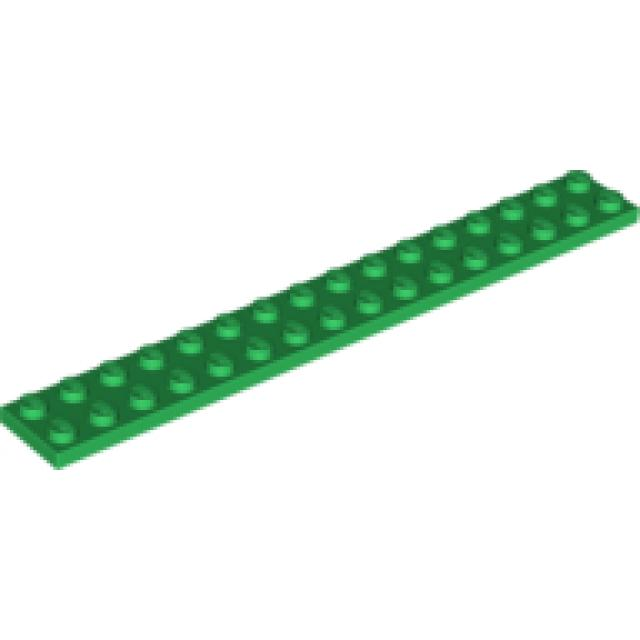Green_Large: (0, 170, 640, 473)
